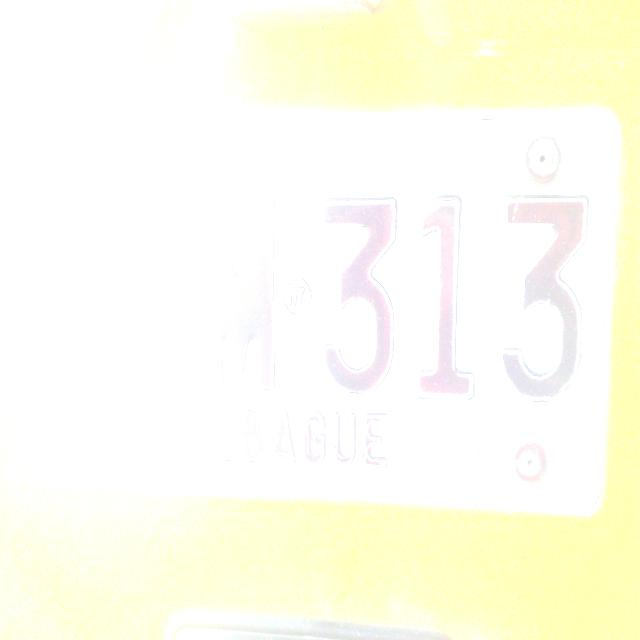placa: (1, 100, 621, 520)
